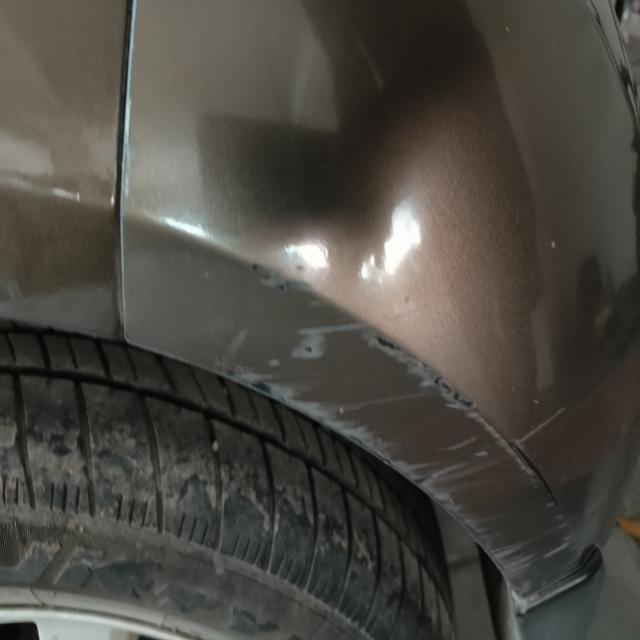scratch: (191, 246, 605, 616)
